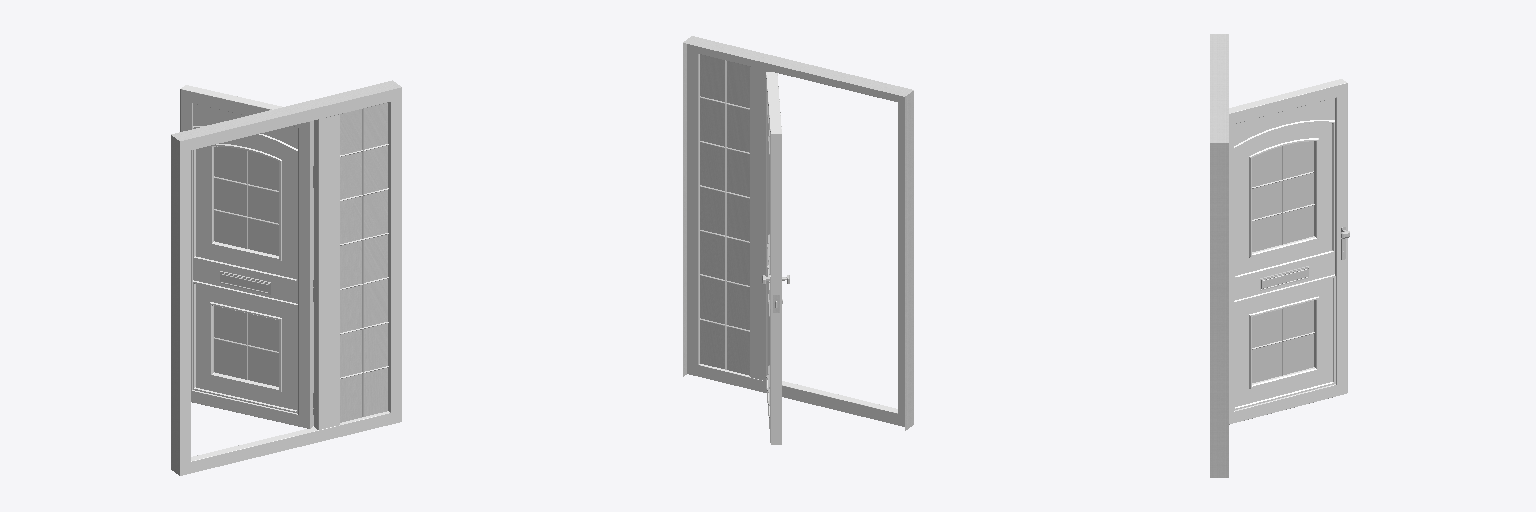
3 views of the same model, side by side, from view 1: azimuth 30°, elevation 25°; view 2: azimuth 150°, elevation 25°; view 3: azimuth 270°, elevation 25° (orthographic).
Size of the model in its own units: 1.57 by 2.26 by 0.86.
Materials: 6 (1 with a texture image).